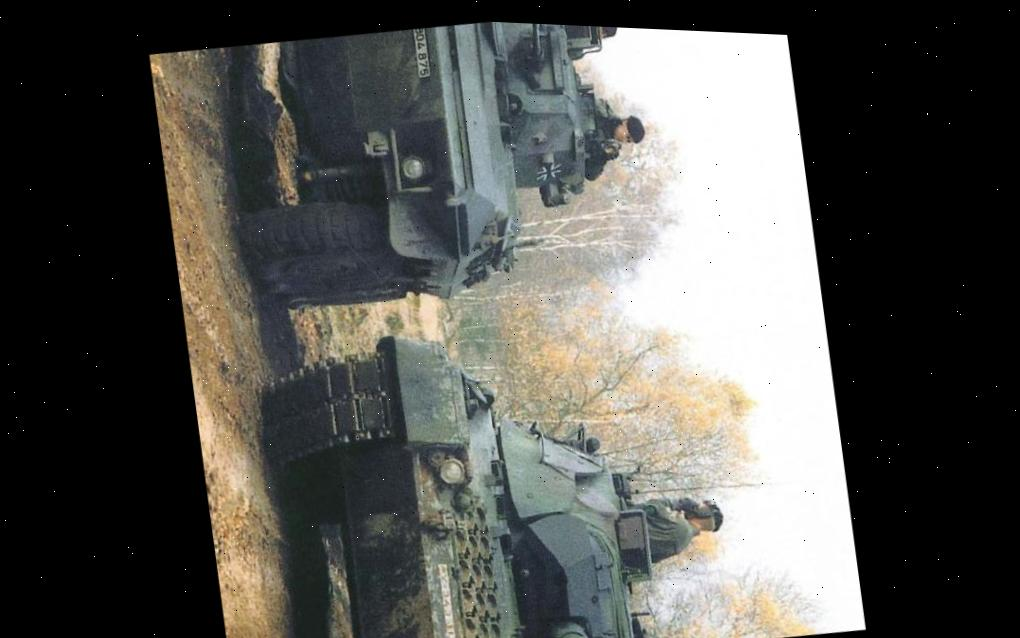tank: (247, 289, 693, 638), (215, 10, 640, 336)
